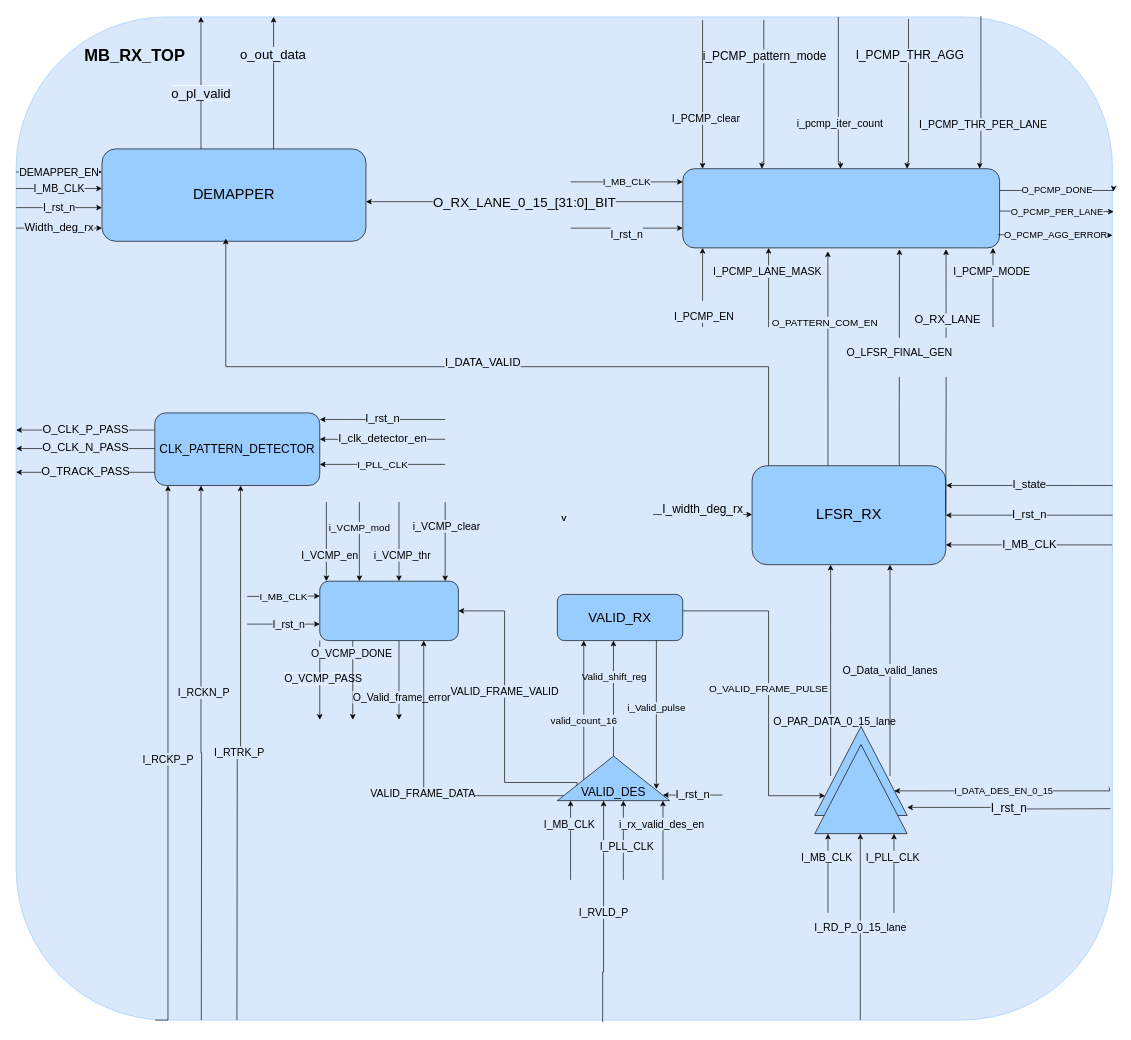
The diagram is 1131 pixels wide and 1040 high, and some of its shapes have lost their labels. The shapes that lost their labels are listed below. From the top down, each one's centre as x and y in pixels, then its label:
pixel 841 208: PATTERN_COMPARATOR
pixel 388 611: VALID_COMPARATOR
pixel 860 789: DATA_DES
